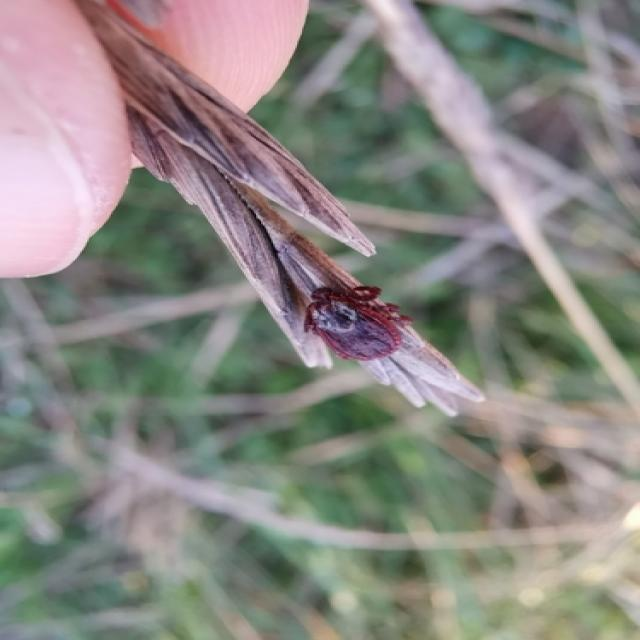Dermacentor Reticulatus-F: (304, 265, 422, 364)
